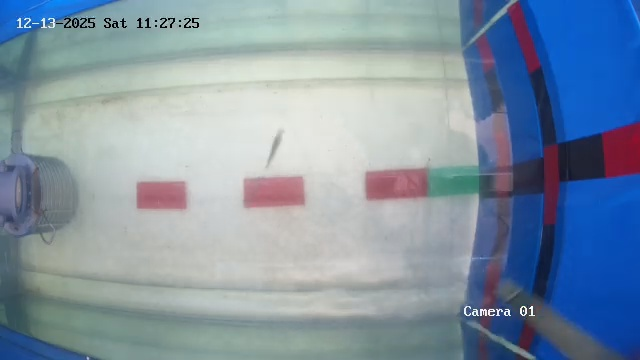fish: (241, 130, 277, 186)
